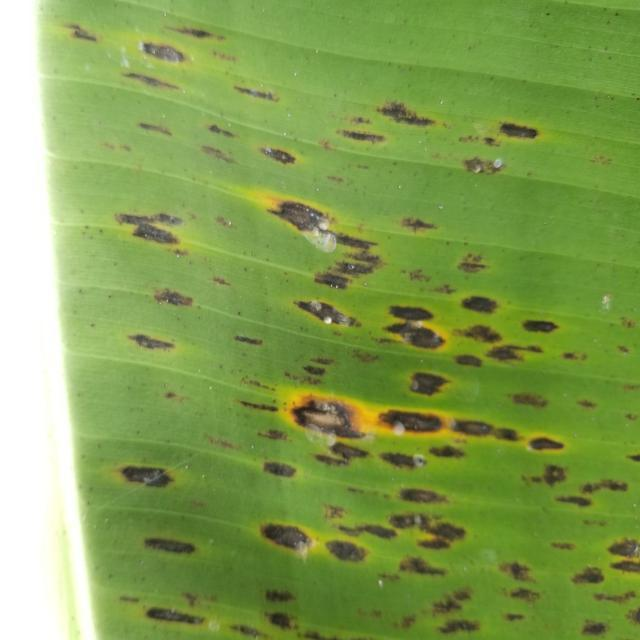Early_rust: (42, 0, 640, 640)
